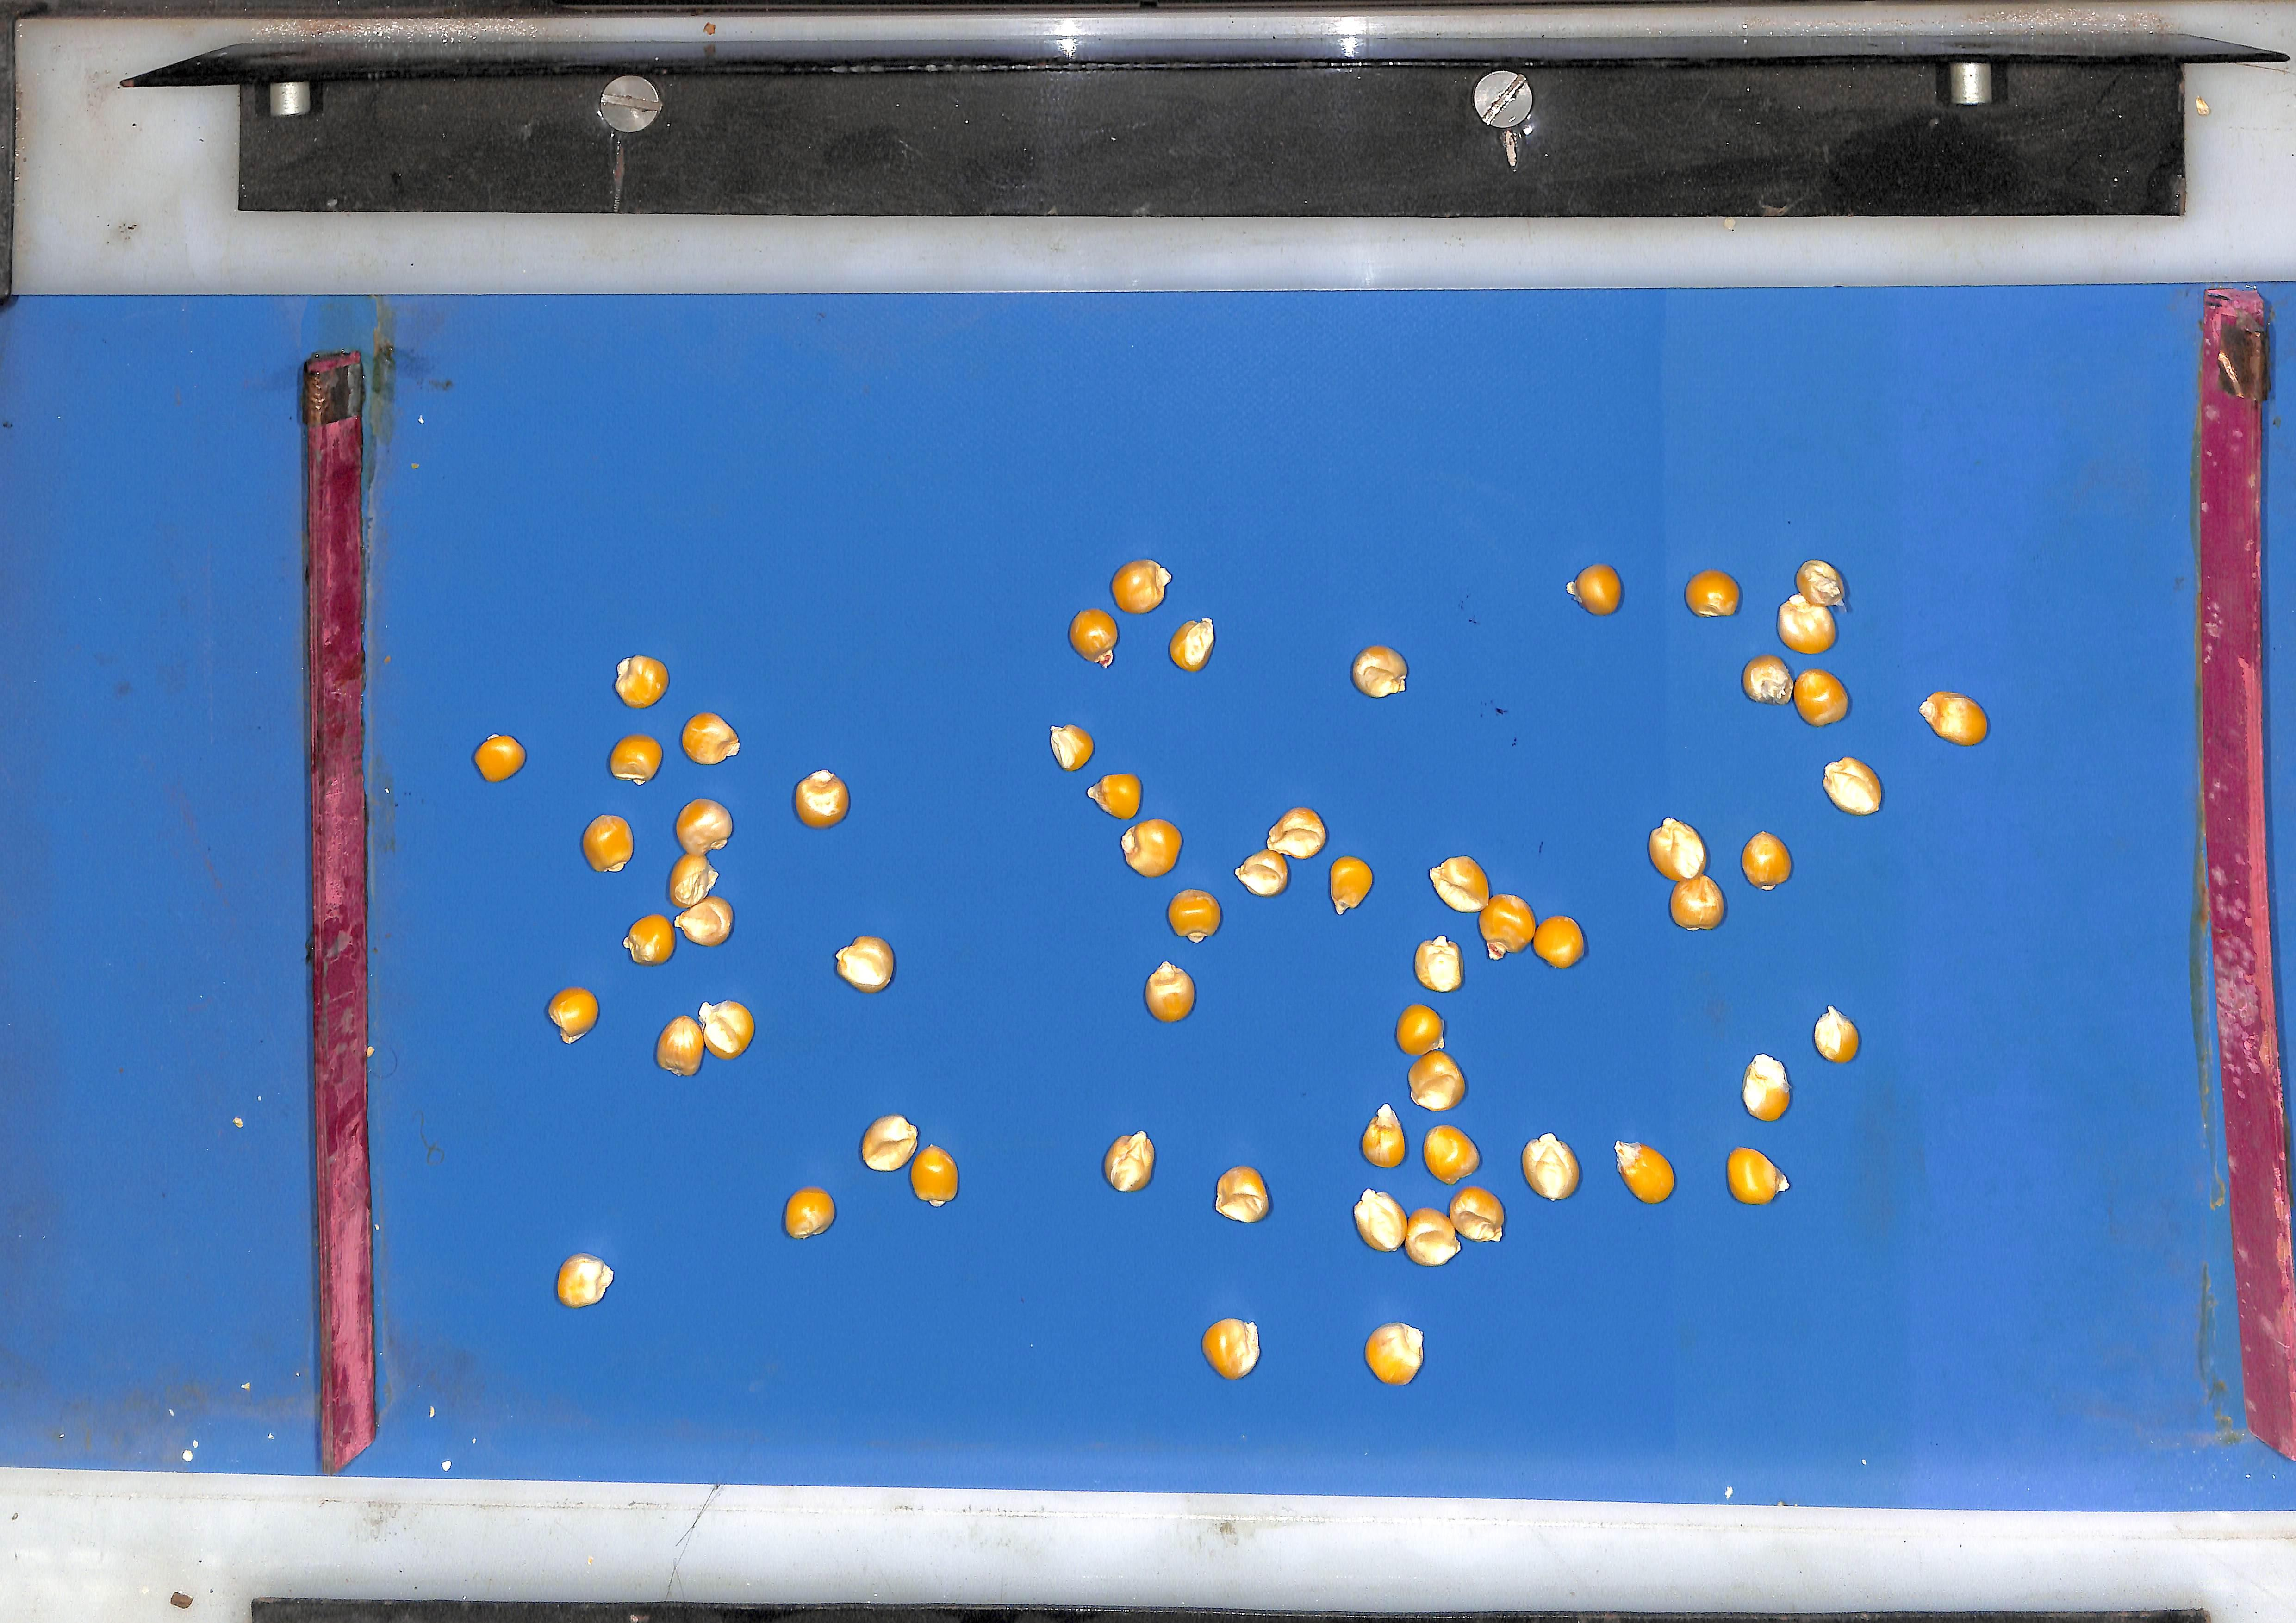pure: (1524, 1135, 1582, 1201), (1617, 1142, 1676, 1205), (1924, 690, 1992, 745), (1366, 1324, 1425, 1386), (1650, 819, 1708, 882), (1482, 894, 1538, 959), (1410, 1050, 1467, 1112), (1353, 1189, 1410, 1252), (1729, 1149, 1792, 1205), (1122, 819, 1181, 876), (1782, 592, 1840, 652), (1204, 1319, 1260, 1381), (1431, 855, 1492, 912), (860, 1115, 918, 1173), (792, 768, 848, 827), (834, 936, 893, 992), (1826, 757, 1885, 813), (1745, 1054, 1794, 1121), (674, 797, 732, 854), (1425, 1126, 1482, 1184), (1111, 559, 1173, 611), (1215, 1166, 1271, 1223), (1796, 669, 1852, 725), (1406, 1208, 1460, 1266), (672, 894, 732, 947), (679, 711, 739, 764), (653, 1015, 704, 1077), (1104, 1131, 1155, 1193), (1267, 806, 1329, 857), (1450, 1187, 1506, 1242), (579, 813, 632, 871), (555, 1256, 613, 1309), (1144, 963, 1195, 1022), (1673, 875, 1727, 929), (1353, 645, 1410, 697), (1569, 562, 1625, 615), (1362, 1105, 1408, 1168), (613, 653, 667, 706), (1167, 889, 1222, 941), (546, 987, 597, 1043), (1069, 608, 1118, 666), (1745, 831, 1794, 889), (909, 1147, 957, 1207), (1534, 915, 1587, 968), (667, 852, 716, 908), (1396, 1003, 1445, 1057), (1417, 936, 1464, 992), (1234, 848, 1290, 896), (783, 1189, 834, 1240), (607, 734, 660, 783), (621, 915, 674, 964), (1817, 1008, 1862, 1064), (1331, 855, 1374, 913), (1745, 653, 1796, 703), (1799, 557, 1850, 606), (470, 734, 523, 782), (1087, 773, 1141, 819), (1689, 569, 1743, 615), (1169, 617, 1215, 669), (1050, 725, 1094, 771)
